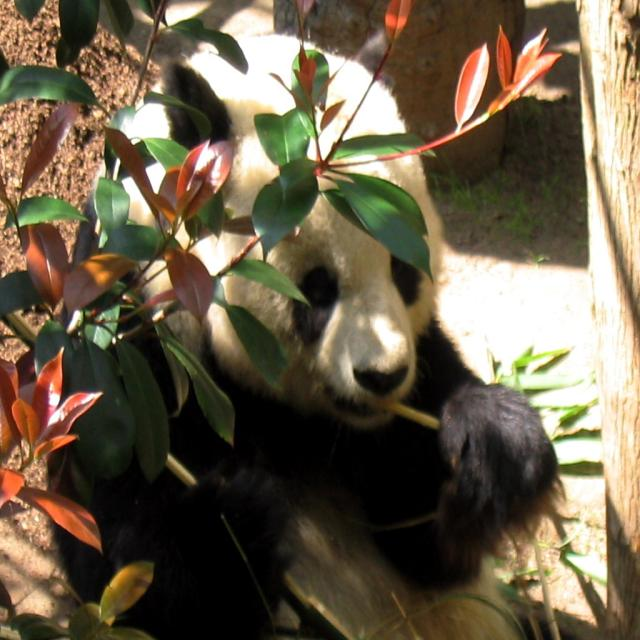panda: (47, 29, 561, 639)
